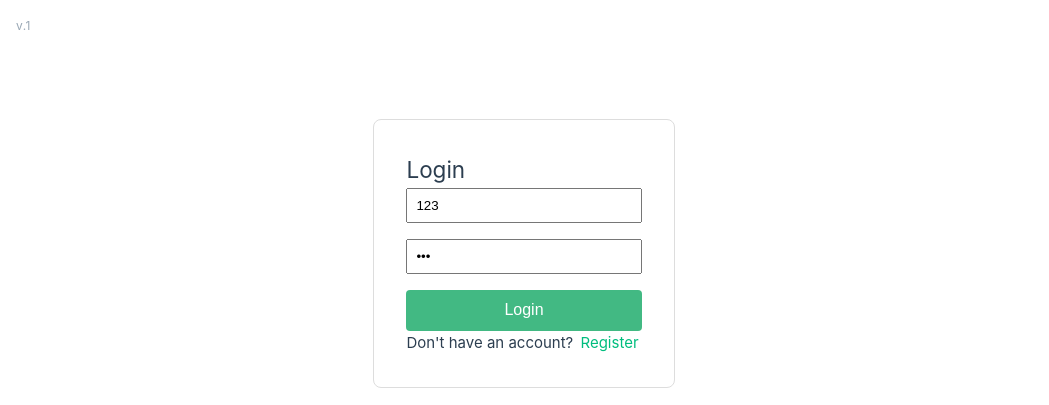
Test: login flow › logs in with valid credentials and lands on the home page
The width and height of the screenshot is (1049, 405).
Replace the text in the field with placeholder "Username" with "alice" at point(524, 206), box top-left (406, 188), bottom-right (641, 223)
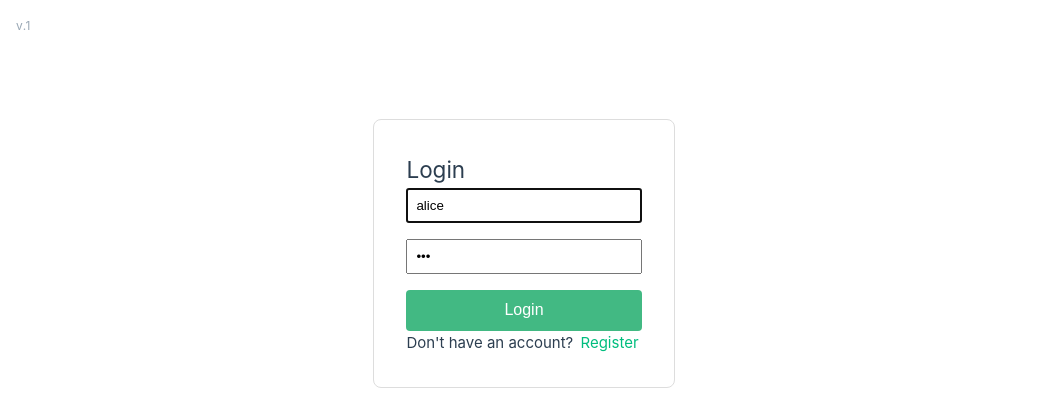
Type "s3cret" into the password field with placeholder "Password" at point(524, 257), box top-left (406, 239), bottom-right (641, 274)
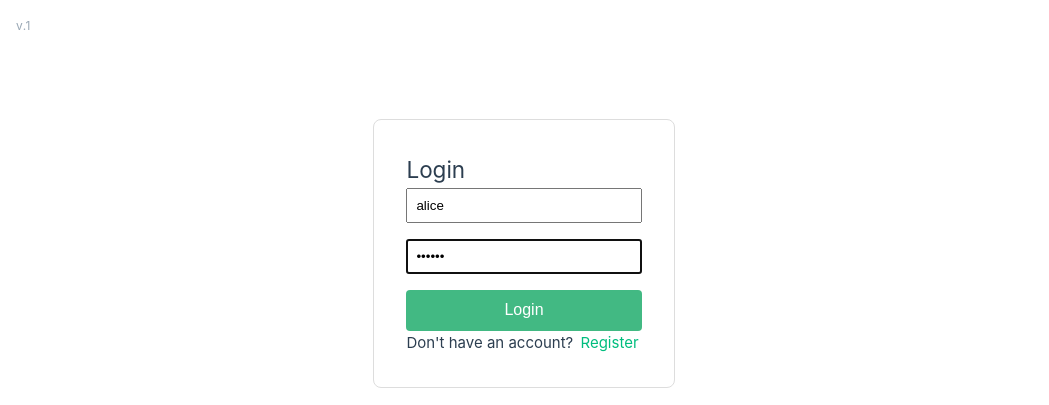
Click the button "Login" at point(524, 310), box top-left (406, 290), bottom-right (641, 330)
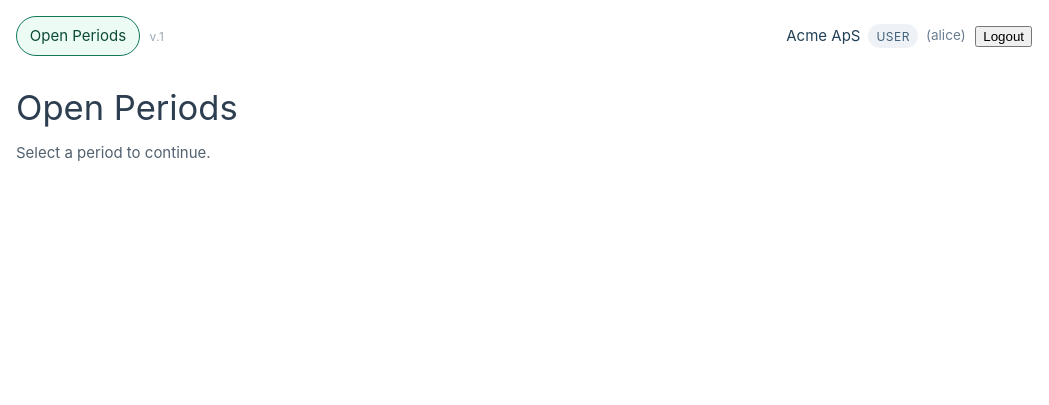
expect the heading "Open Periods" is shown: met, box top-left (16, 87), bottom-right (238, 128)
